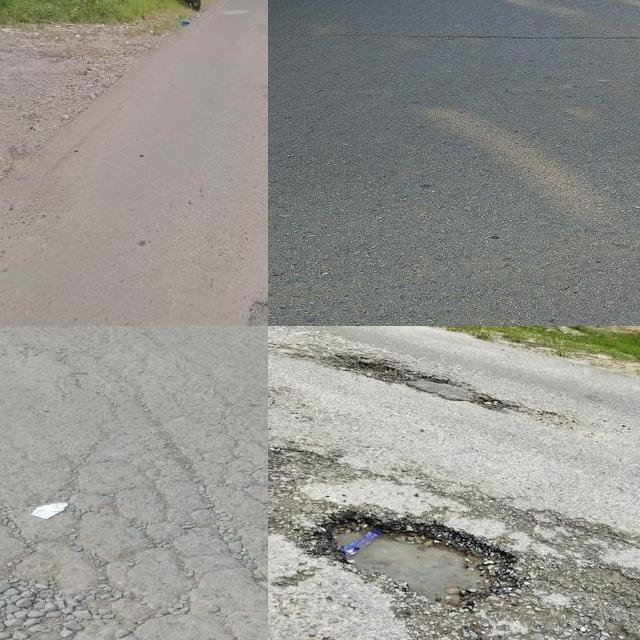Lubang: (315, 521, 513, 602)
Melintang: (268, 16, 640, 51)
Retak Buaya: (0, 405, 268, 640)
